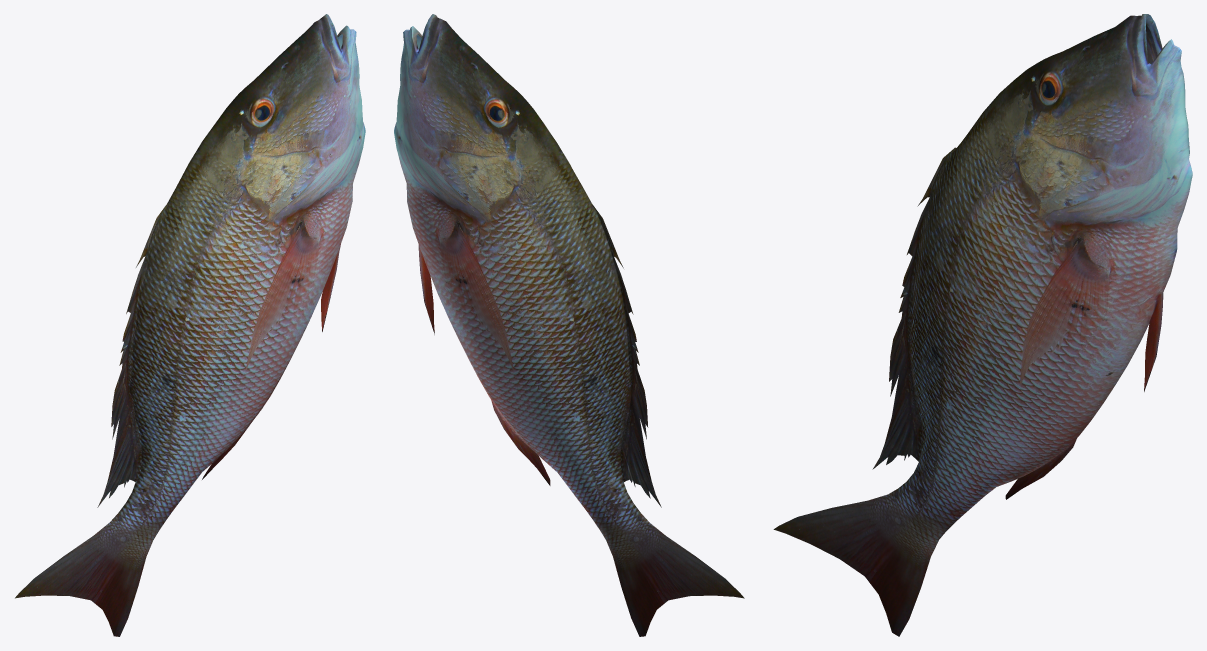
Rendered from fish.glb.
3 renders of one model, left to right at view 1: azimuth 30°, elevation 25°; view 2: azimuth 150°, elevation 25°; view 3: azimuth 330°, elevation 25°, orthographic. The views are drawn at different scales.
Visible parts, largest first — view 1: Line01; view 2: Line01; view 3: Line01.
Boxes of the visible parts, x1,y1,x2,y2 form: Line01: (15,14,365,636); Line01: (394,14,744,636); Line01: (773,14,1192,636).
Size of the model in its own units: 7.21 by 11.25 by 1.23.
Materials: 1 (1 with a texture image).
